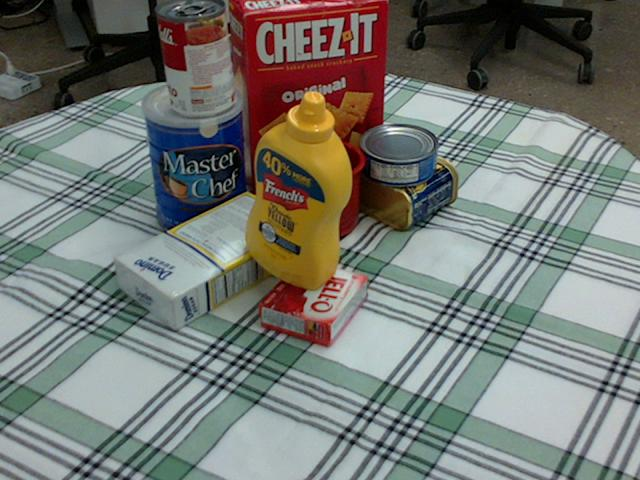cracker_box: (229, 0, 387, 193)
gelatin_box: (259, 258, 367, 345)
master_chef_can: (140, 79, 248, 239)
mug: (278, 136, 365, 238)
mustard_bottle: (245, 90, 351, 289)
potted_meat_can: (341, 136, 455, 226)
sugar_box: (112, 190, 305, 329)
tomato_soup_can: (157, 0, 233, 116)
tuna_fish_can: (358, 124, 437, 185)
